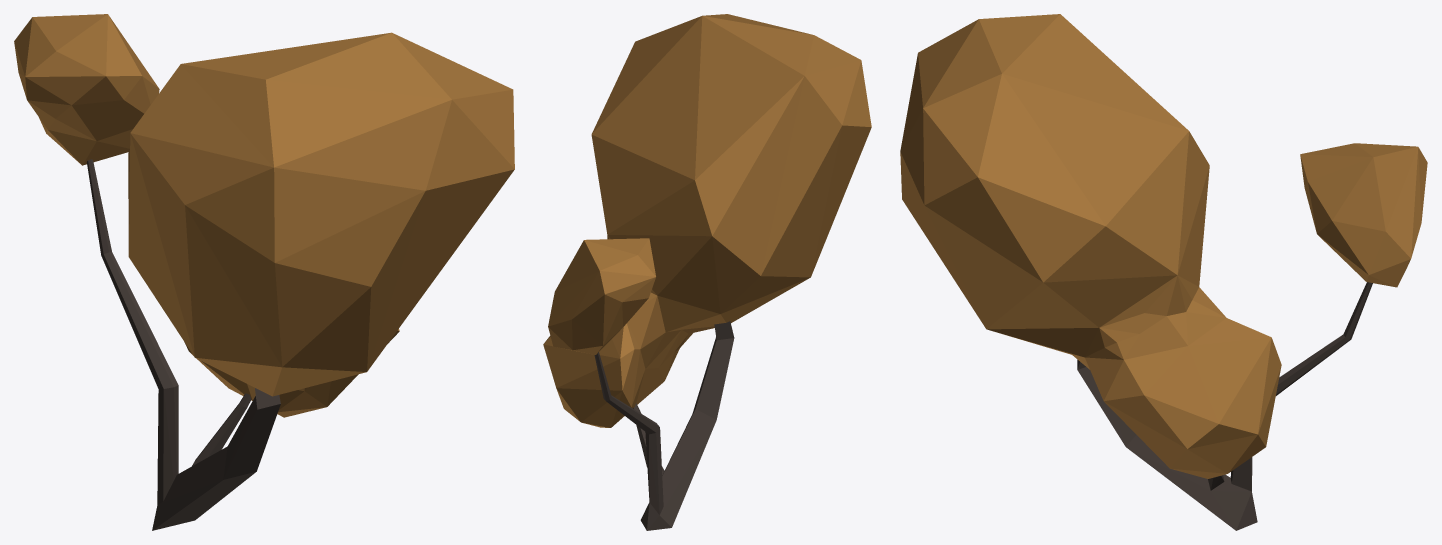
File: SM_Shrub_01.fbx
3 renders of one model, left to right at view 1: azimuth 30°, elevation 25°; view 2: azimuth 150°, elevation 25°; view 3: azimuth 270°, elevation 25°, orthographic. The views are drawn at different scales.
Visible parts, largest first — view 1: SM_Shrub_01; view 2: SM_Shrub_01; view 3: SM_Shrub_01.
Part boxes in pixels (x1,y1,x2,y2): SM_Shrub_01: (14,14,514,530); SM_Shrub_01: (543,14,871,530); SM_Shrub_01: (900,14,1427,530).
Size of the model in its own units: 277 by 446 by 444.
